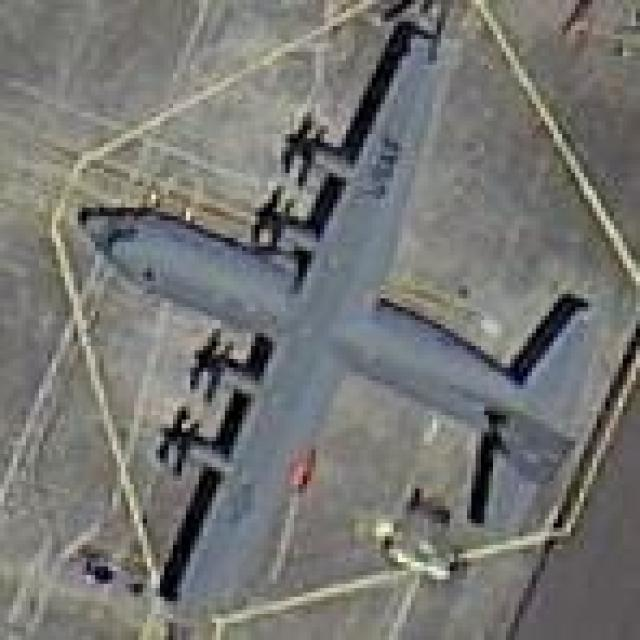C-130_TopDown: (69, 21, 596, 628)
